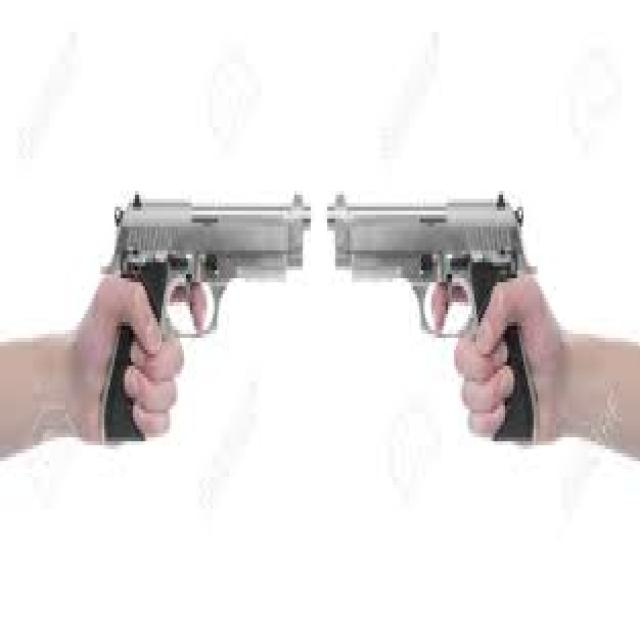gun: (94, 167, 309, 469), (327, 175, 536, 449)
